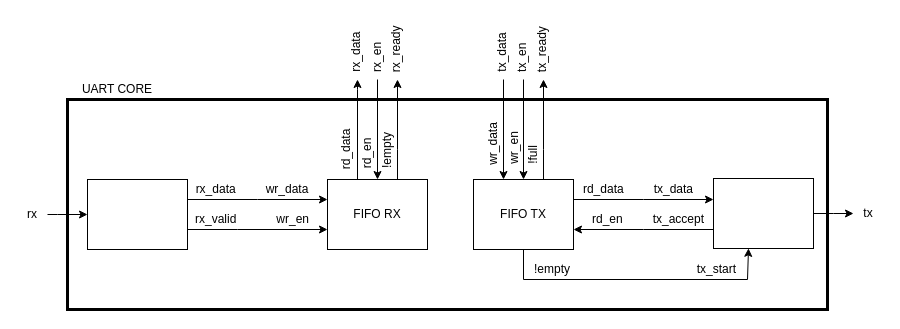
This 900x329 diagram has some shape labels left out. The centre of each missing label's shape, as x and y in pixels:
UART RX: point 137,214
UART TX: point 763,213
